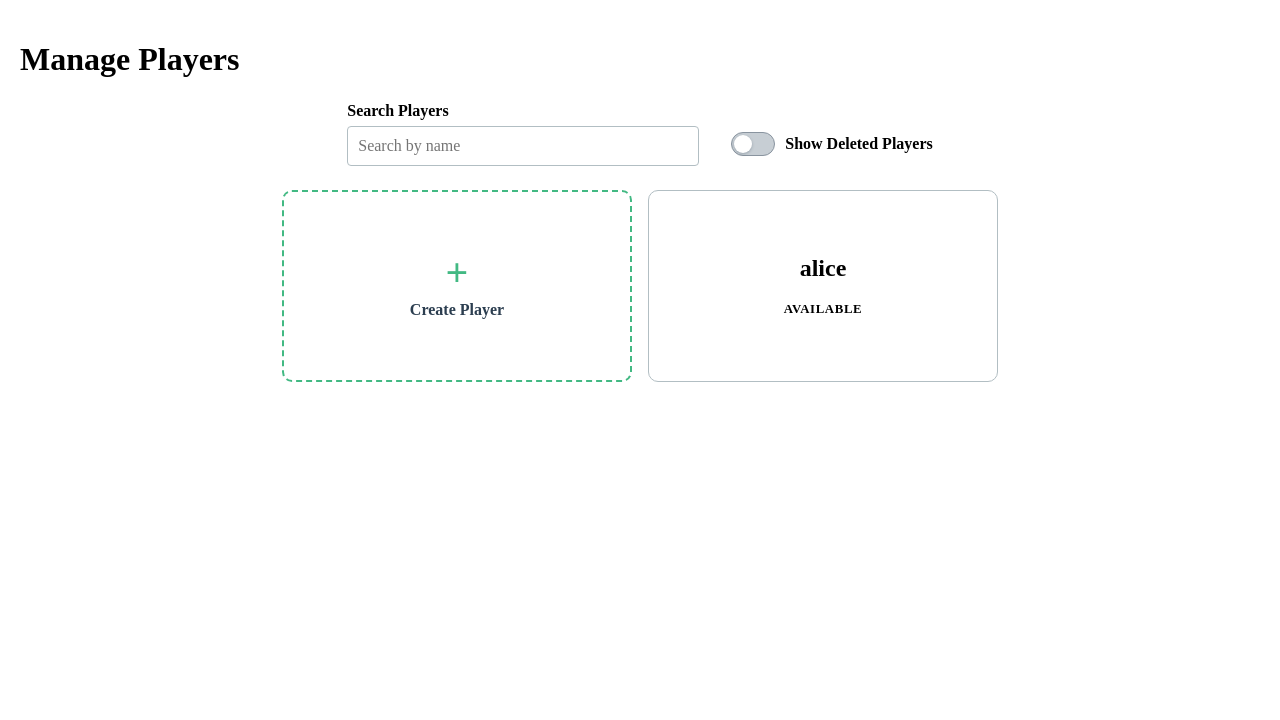
Test case: ManagePlayers › keeps a failed deletion confirmation open with its business error
Click the button "alice" at (823, 269), box [800,255,846,282]
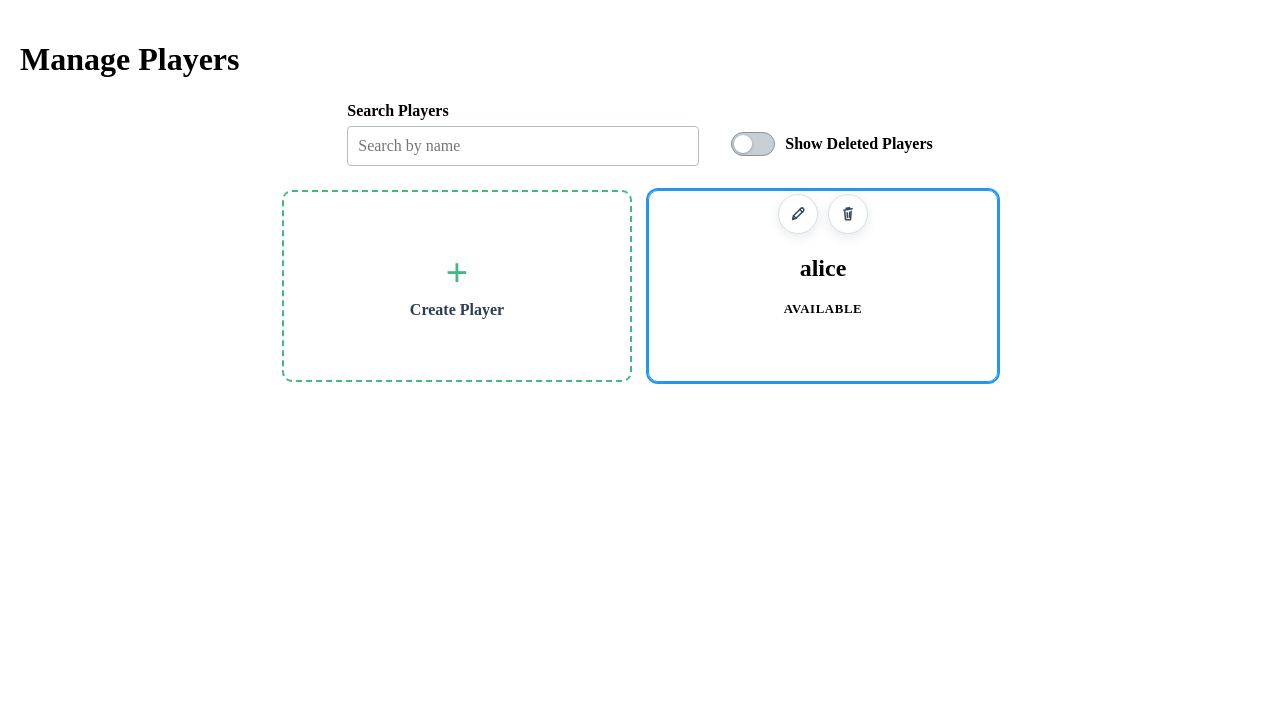
Click the button named "Delete alice" at (848, 214), box [828,194,868,234]
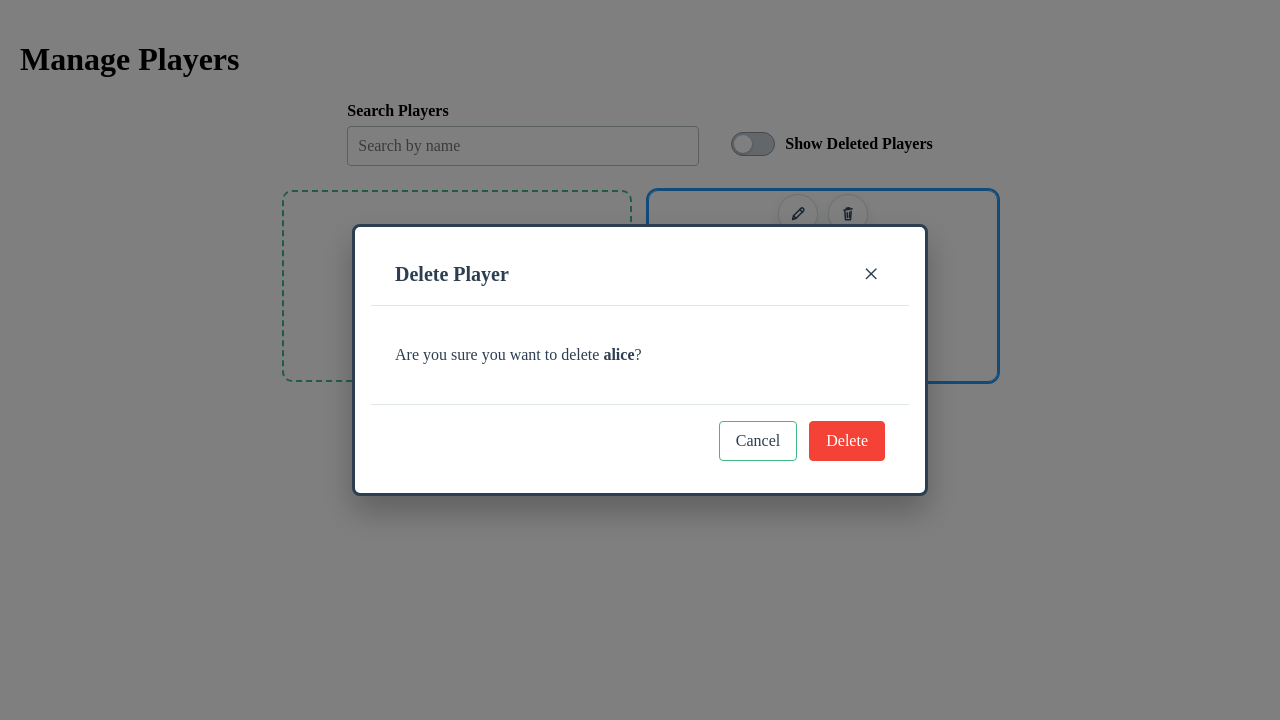
Click the button with class "delete-player-confirm" at (847, 441), box [809,421,885,461]
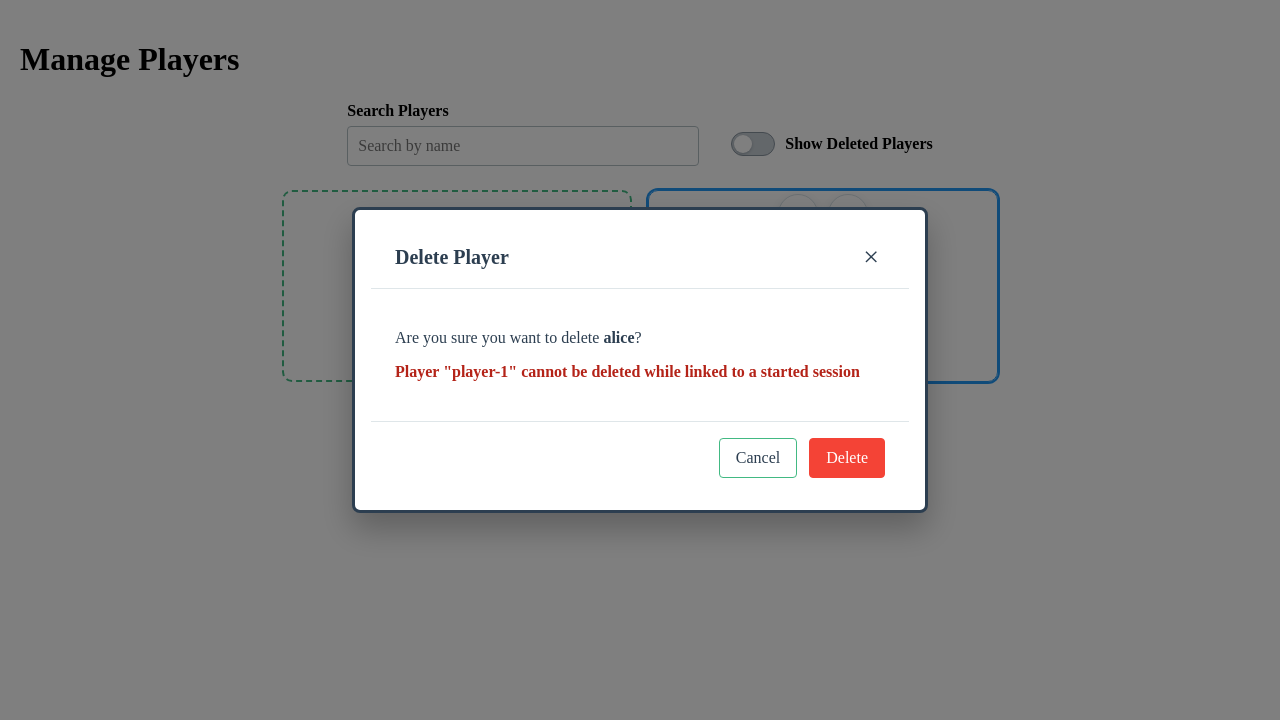
Expected: the message with class "modal-error" shows "cannot be deleted while linked to a started session", [395,363,860,380]
